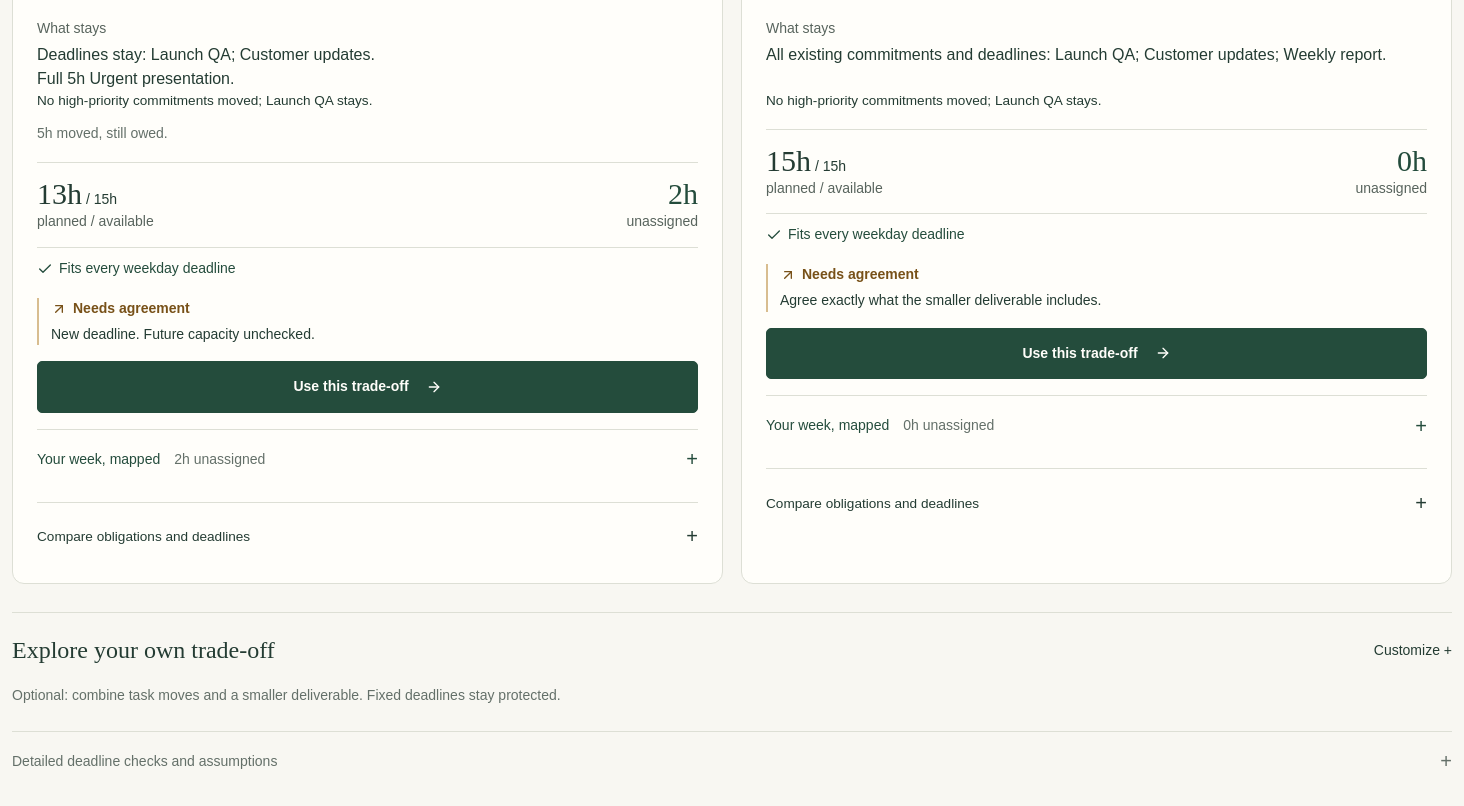
Test: announces one concise simulator state, preserves focus and disables a plan when it becomes invalid
(page scrolled)
Step 1. Click the button "Explore your own trade-off Customize +" → (143, 650), box left=12, top=629, right=1452, bottom=673
(page scrolled)
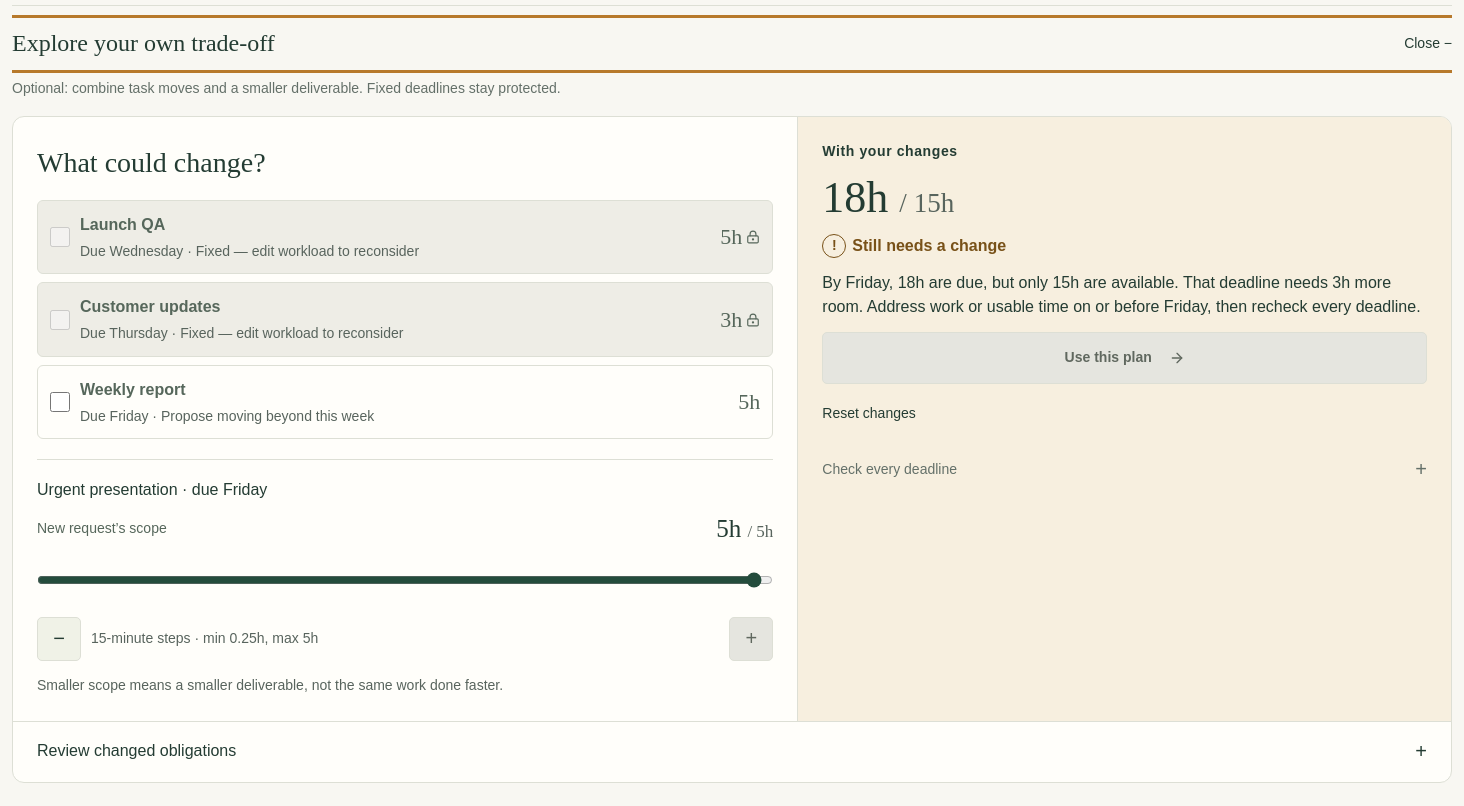
Step 2. Click the checkbox named "Defer Weekly report" → (60, 402), box left=50, top=392, right=70, bottom=412
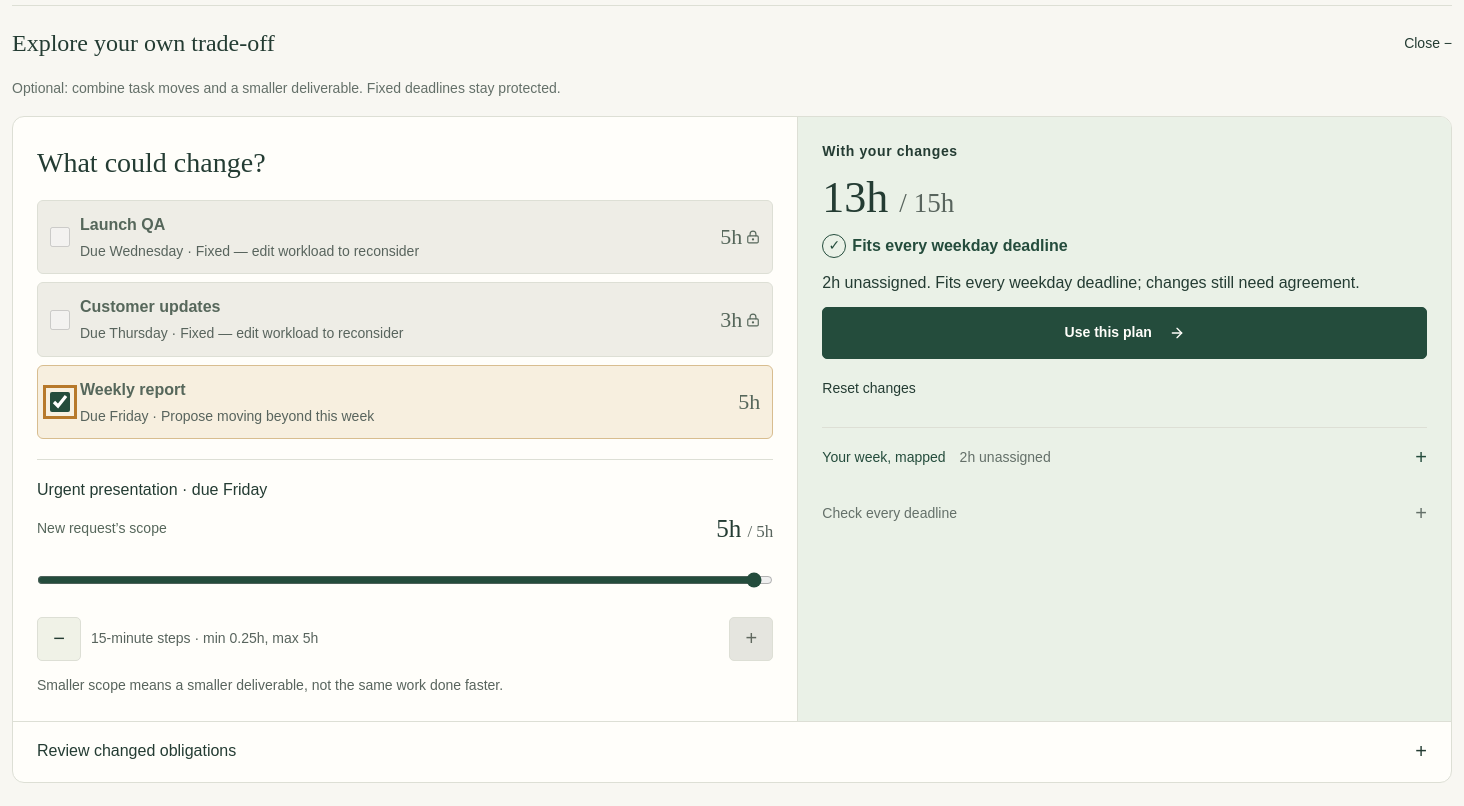
Expected: the number of messages is 1, left=822, top=270, right=1427, bottom=295
Expected: the button "Use this plan" is enabled, left=822, top=307, right=1427, bottom=359
Step 3. Click the checkbox named "Defer Weekly report" → (60, 402), box left=50, top=392, right=70, bottom=412
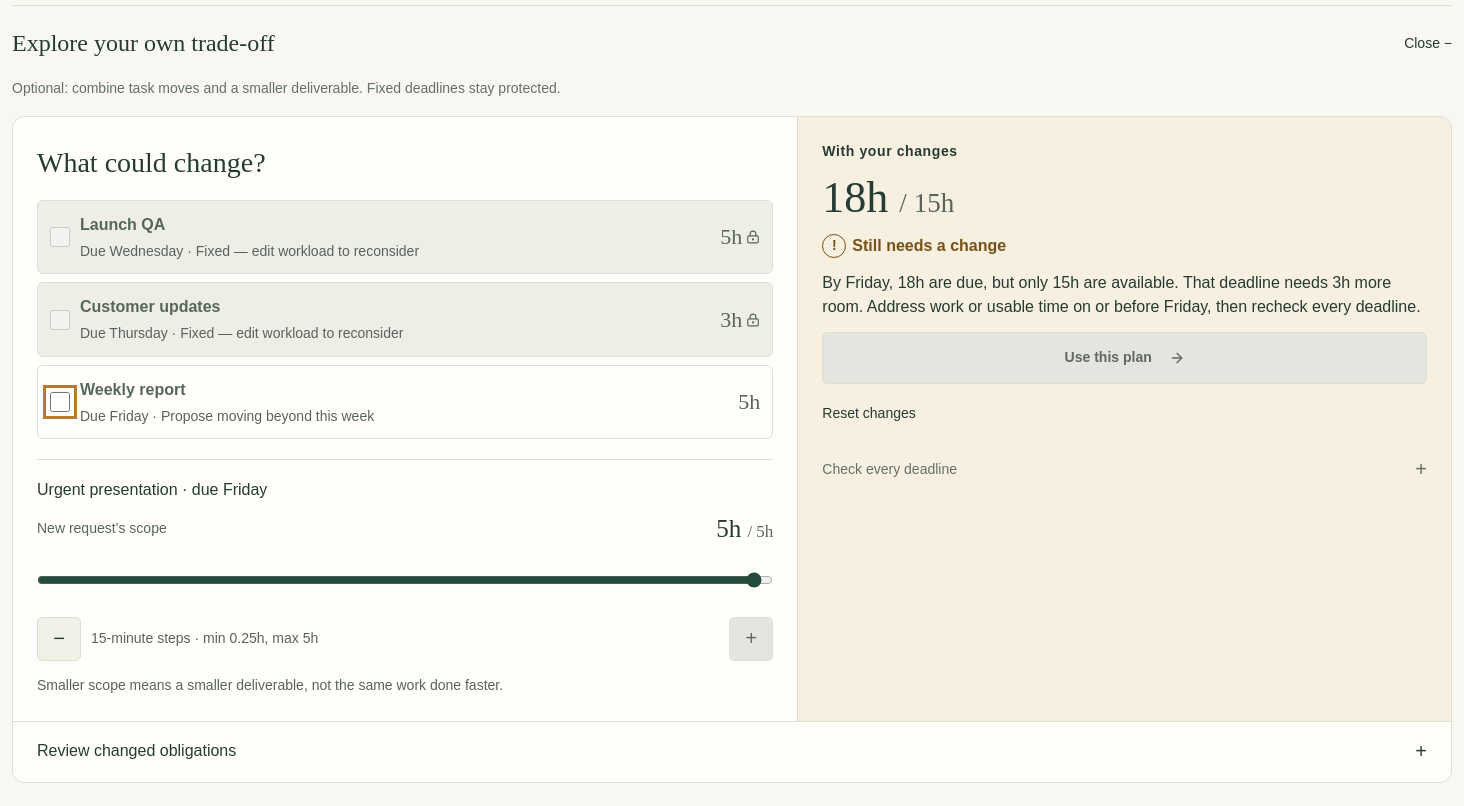
Expected: the button "Use this plan" is disabled, left=822, top=332, right=1427, bottom=384
Expected: the message shows "By Friday, 18h are due, but only 15h are available", left=822, top=274, right=1421, bottom=315
